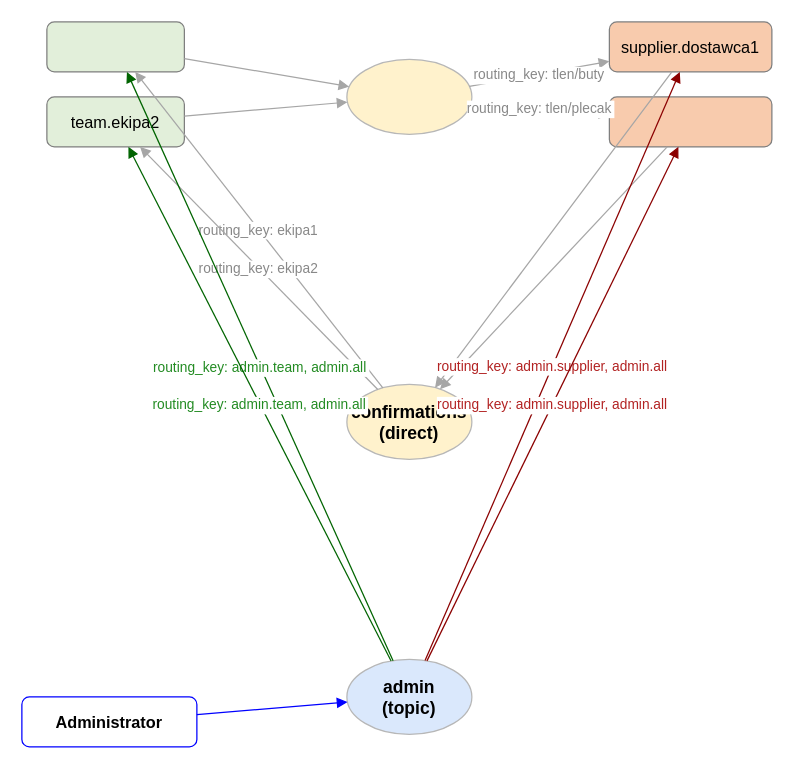
Image size: 794x769. Some labels were removed from this diagram. Here are the shapes that lost their labels. From the top down, the centre of each, then its label:
At (x=115, y=46): "team.ekipa1".
At (x=409, y=96): "orders (direct)".
At (x=690, y=121): "supplier.dostawca2".
